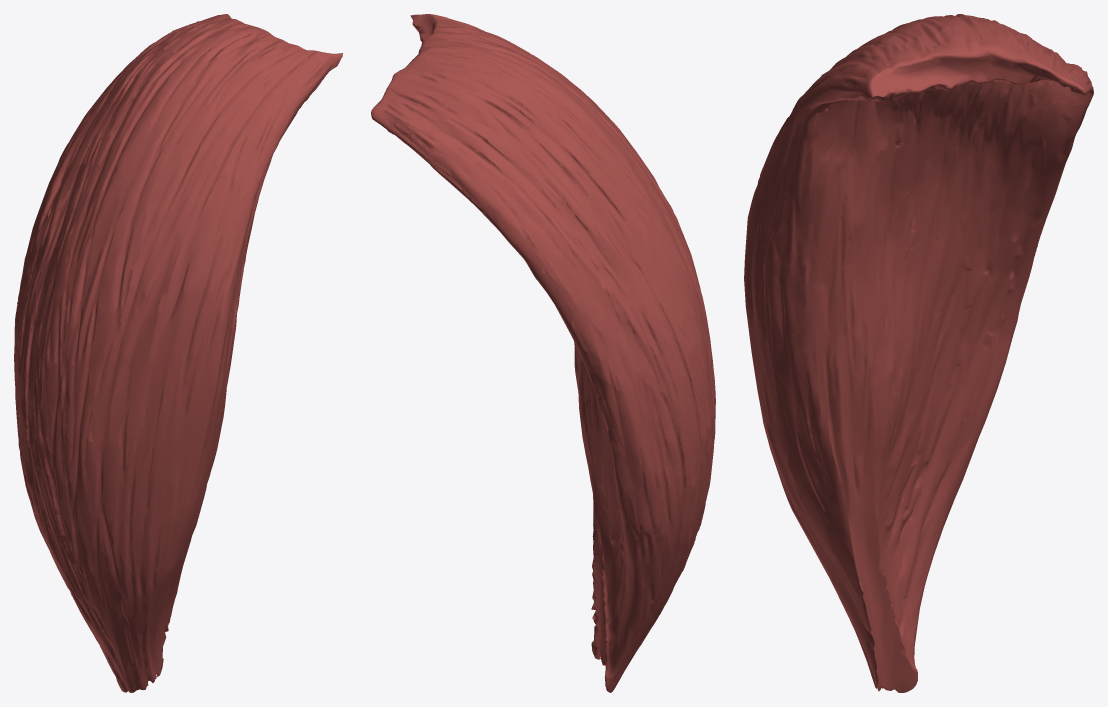
The model's file is FMA34682.glb.
The picture shows the model from 3 angles, left to right: view 1: azimuth 30°, elevation 25°; view 2: azimuth 150°, elevation 25°; view 3: azimuth 270°, elevation 25°; orthographic projection. The views are drawn at different scales.
Parts seen in each view (by area): view 1: FMA34682; view 2: FMA34682; view 3: FMA34682.
Part boxes in pixels (bbox=[...]): FMA34682: bbox=[14, 14, 342, 692]; FMA34682: bbox=[371, 14, 715, 692]; FMA34682: bbox=[744, 14, 1093, 692].
Size of the model in its own units: 0.0731 by 0.1429 by 0.0615.
